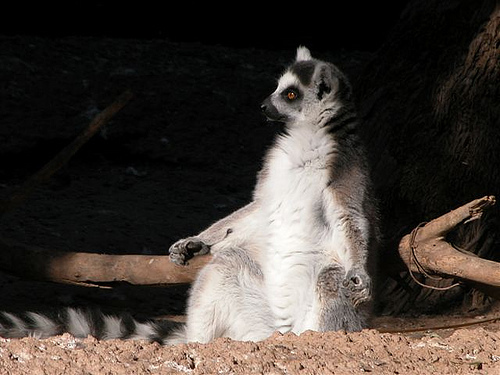cat: (0, 43, 378, 338)
